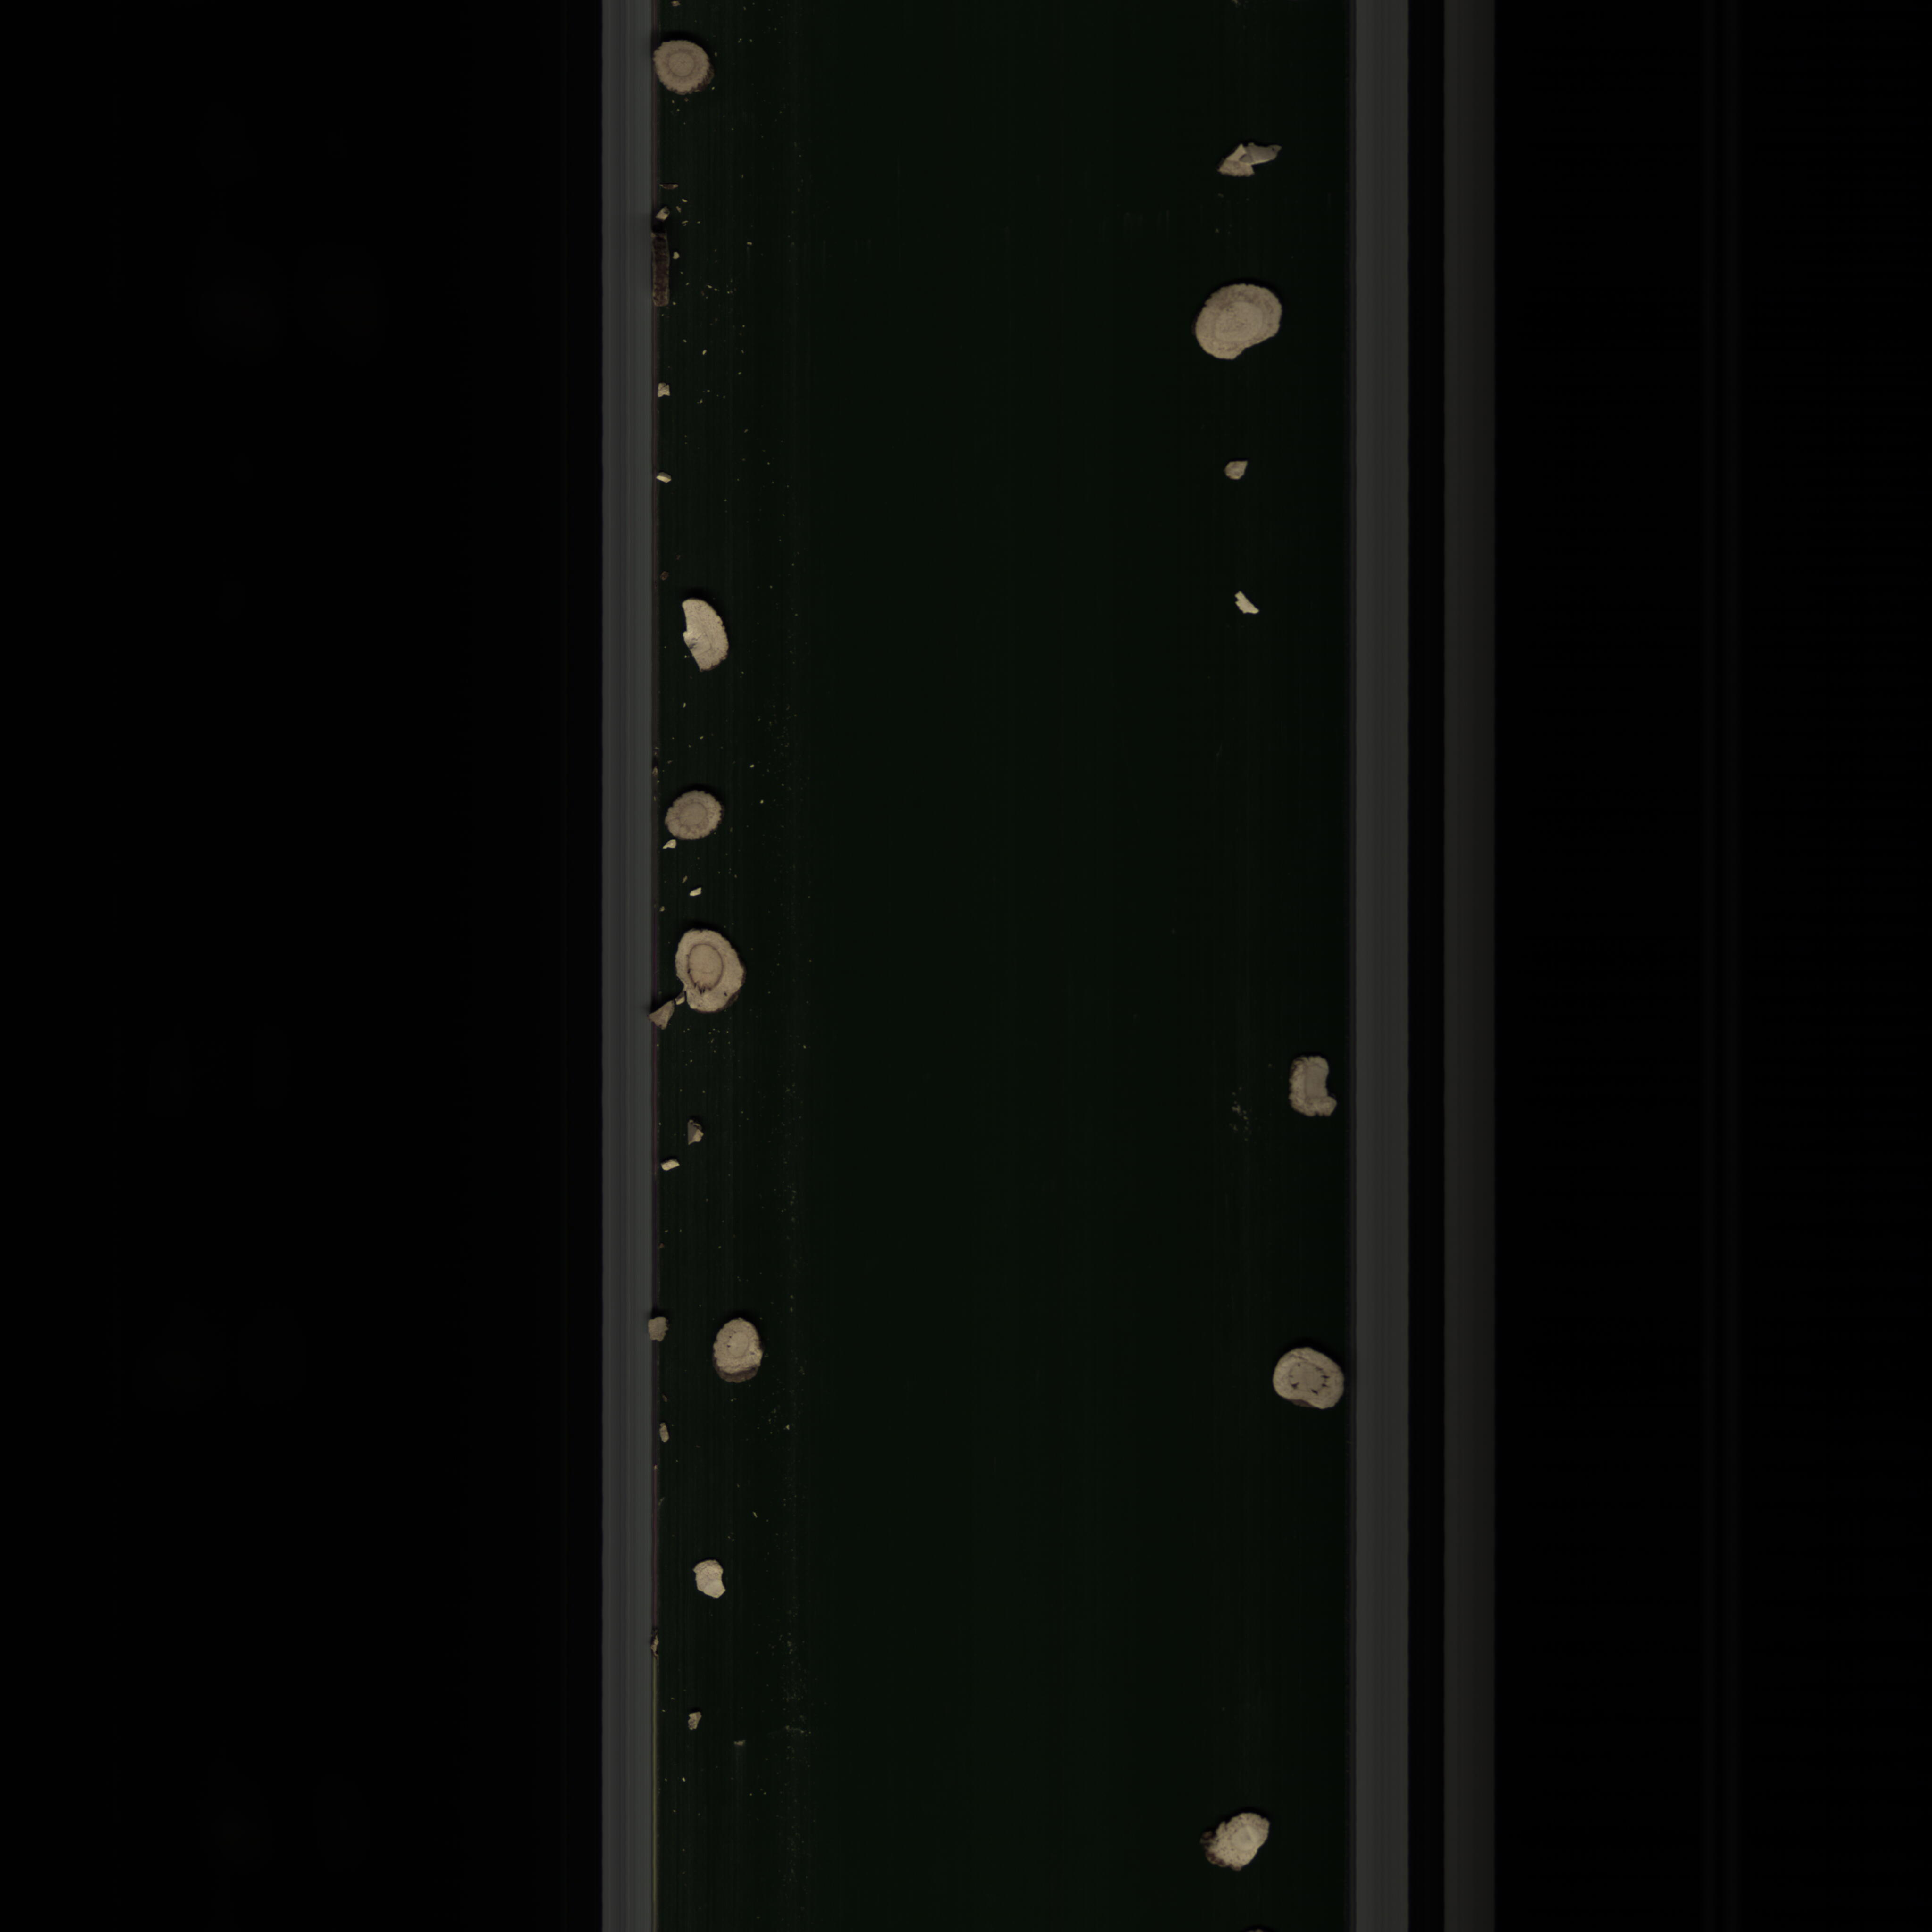bark: (1221, 134, 1293, 191)
debris: (669, 594, 740, 679), (1198, 1803, 1274, 1879), (1276, 1051, 1339, 1127), (686, 1555, 738, 1608), (1221, 587, 1267, 619), (1217, 451, 1258, 485)
hole: (1267, 1336, 1350, 1412)
moldy: (669, 920, 747, 1021), (648, 35, 718, 96)
